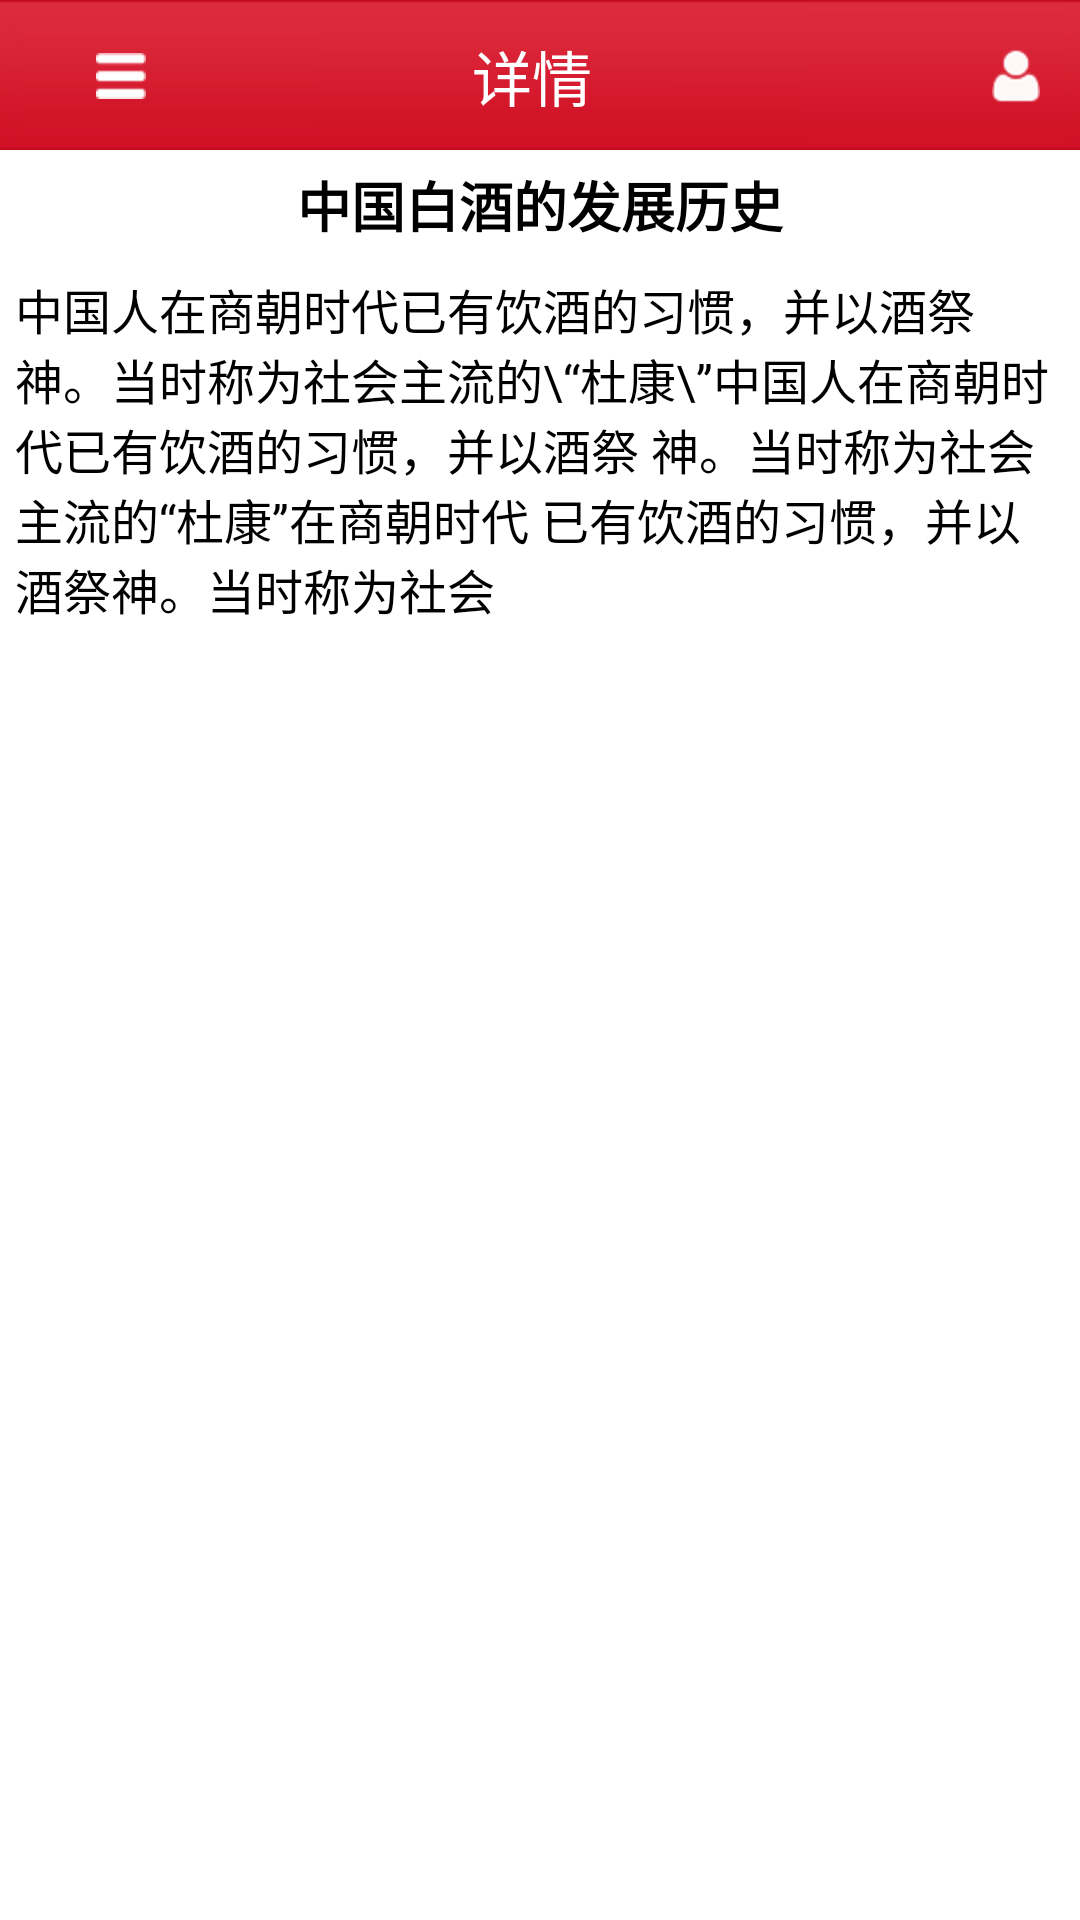

Named icons in this screenshot (1080 x 1920) and their centers, [x,y]:
user: [1016,76]
